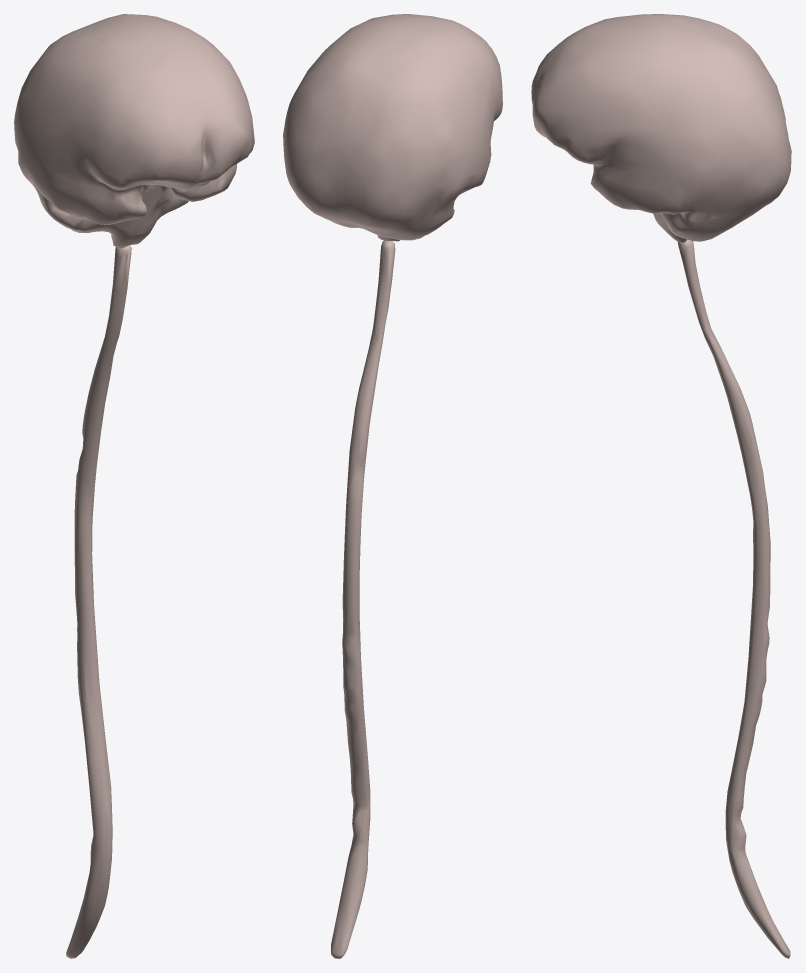
File: pediatric_child_10y_male.nervous.LOD0.glb
The picture shows the model from 3 angles, left to right: view 1: azimuth 30°, elevation 25°; view 2: azimuth 150°, elevation 25°; view 3: azimuth 270°, elevation 25°; orthographic projection. The views are drawn at different scales.
Parts seen in each view (by area): view 1: PEDIATRIC.CHILD_10Y.MALE.NERVOUS.BRAIN, PEDIATRIC.CHILD_10Y.MALE.NERVOUS.SPINAL_CORD; view 2: PEDIATRIC.CHILD_10Y.MALE.NERVOUS.BRAIN, PEDIATRIC.CHILD_10Y.MALE.NERVOUS.SPINAL_CORD; view 3: PEDIATRIC.CHILD_10Y.MALE.NERVOUS.BRAIN, PEDIATRIC.CHILD_10Y.MALE.NERVOUS.SPINAL_CORD.
Part boxes in pixels (x1,y1,x2,y2): PEDIATRIC.CHILD_10Y.MALE.NERVOUS.BRAIN: (14, 14, 254, 248); PEDIATRIC.CHILD_10Y.MALE.NERVOUS.SPINAL_CORD: (66, 245, 131, 958); PEDIATRIC.CHILD_10Y.MALE.NERVOUS.BRAIN: (283, 14, 502, 241); PEDIATRIC.CHILD_10Y.MALE.NERVOUS.SPINAL_CORD: (330, 240, 395, 958); PEDIATRIC.CHILD_10Y.MALE.NERVOUS.BRAIN: (531, 14, 791, 242); PEDIATRIC.CHILD_10Y.MALE.NERVOUS.SPINAL_CORD: (677, 239, 790, 958).
Bounding box in the file's own units: 0.1323 × 0.64 × 0.162.
